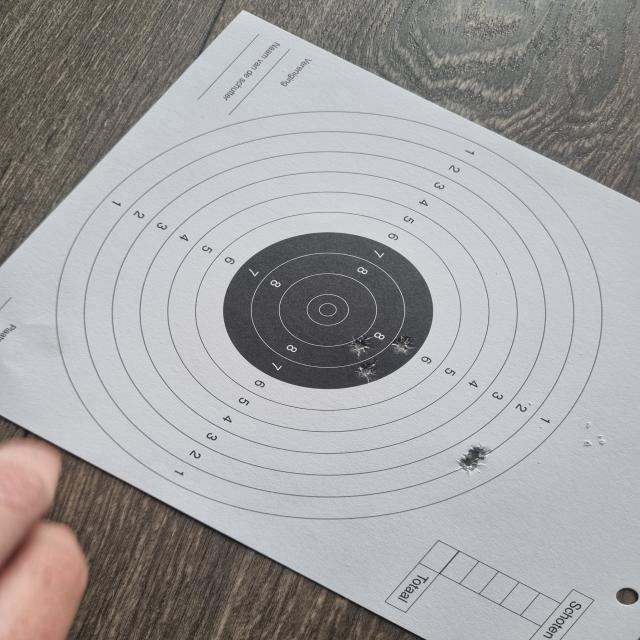10: (350, 336, 372, 356)
3: (466, 442, 490, 458), (459, 456, 479, 474)
8: (392, 334, 416, 354), (358, 360, 380, 380)
Black Contour: (224, 232, 434, 389)
Target: (56, 110, 602, 520)
